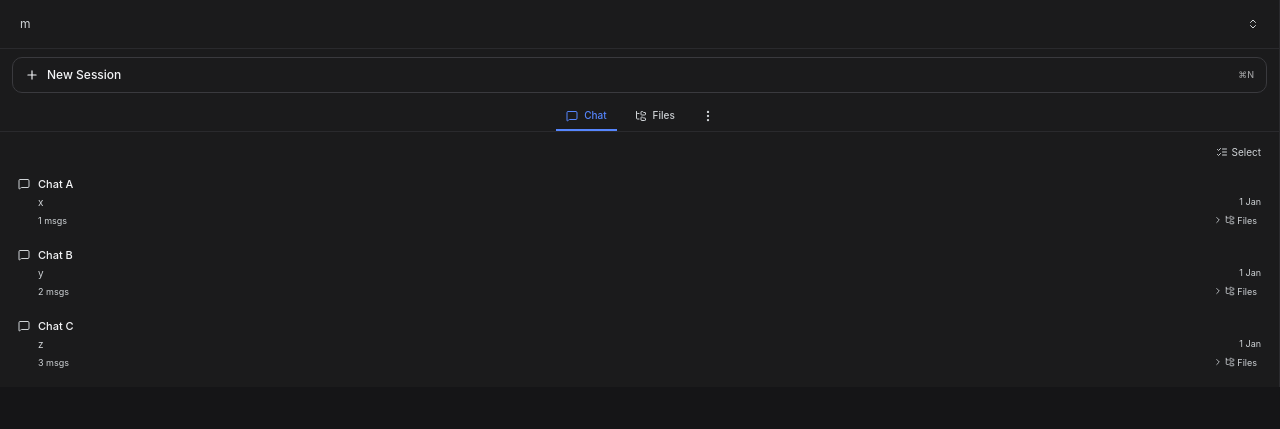
Test case: LeftPanel multi-select › copy success flashes the copied feedback
Click the button with test id "select-chats" at [1238, 152], box [1210, 140, 1267, 164]
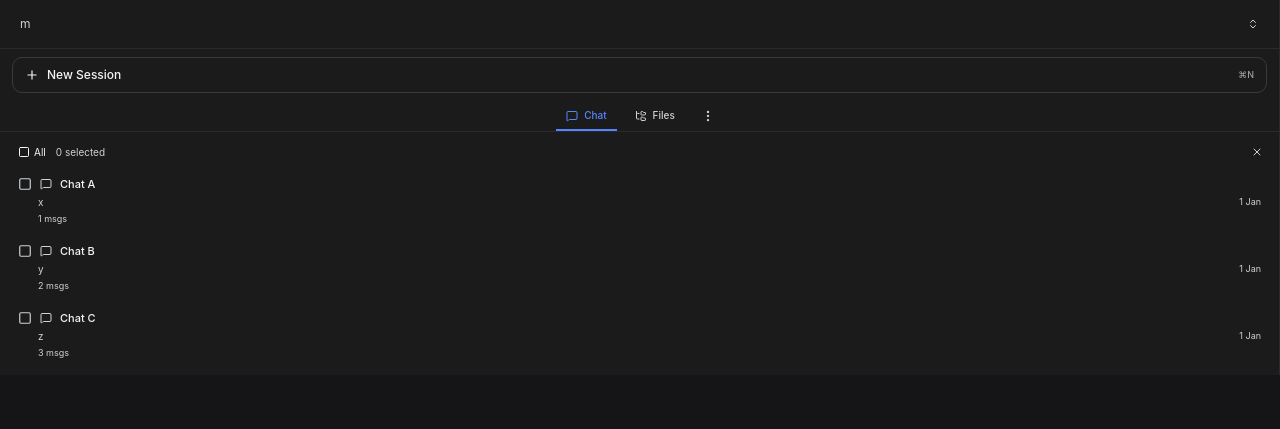
Click the button titled "Select all" at [32, 152], box [12, 140, 52, 164]
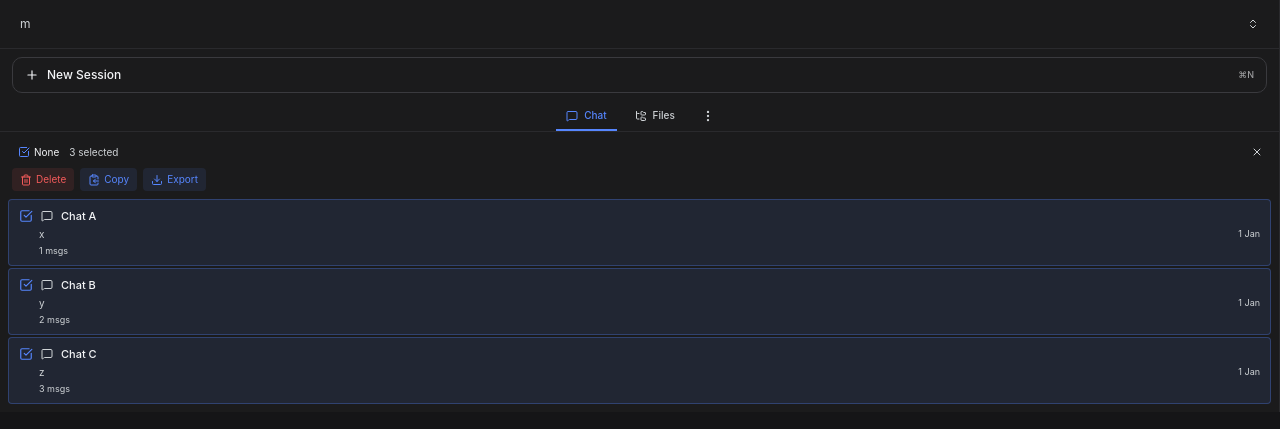
Click the button with test id "bulk-copy" at [109, 180], box [80, 168, 137, 191]
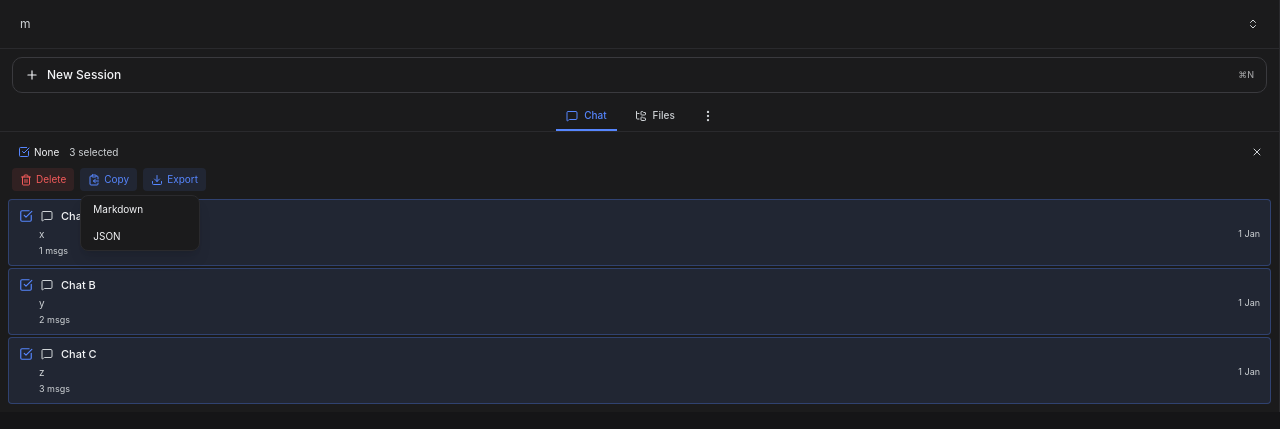
Click the button with test id "copy-markdown" at [140, 210], box [81, 196, 199, 223]
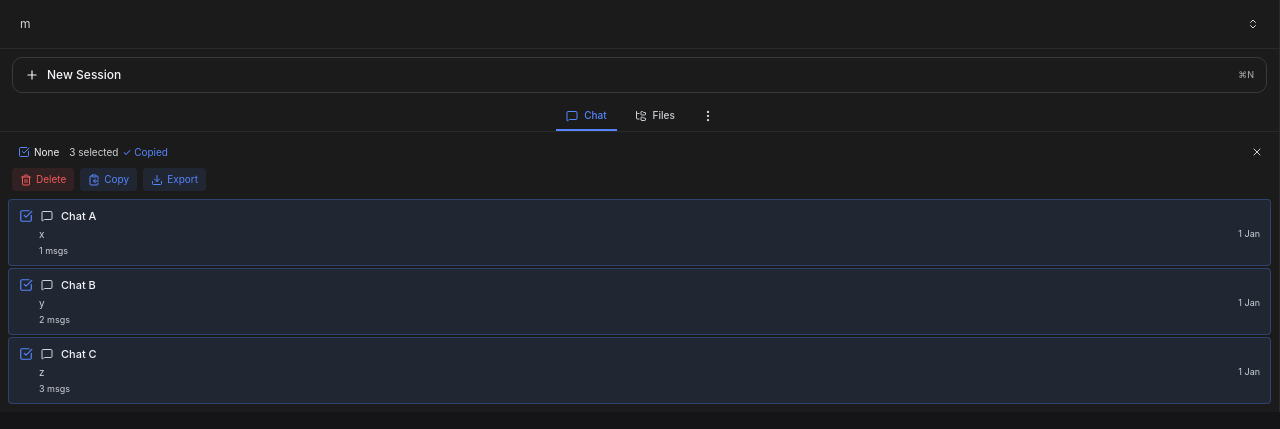
Expected: the text with test id "copy-feedback" reads "✓ Copied", [122, 146, 168, 158]
